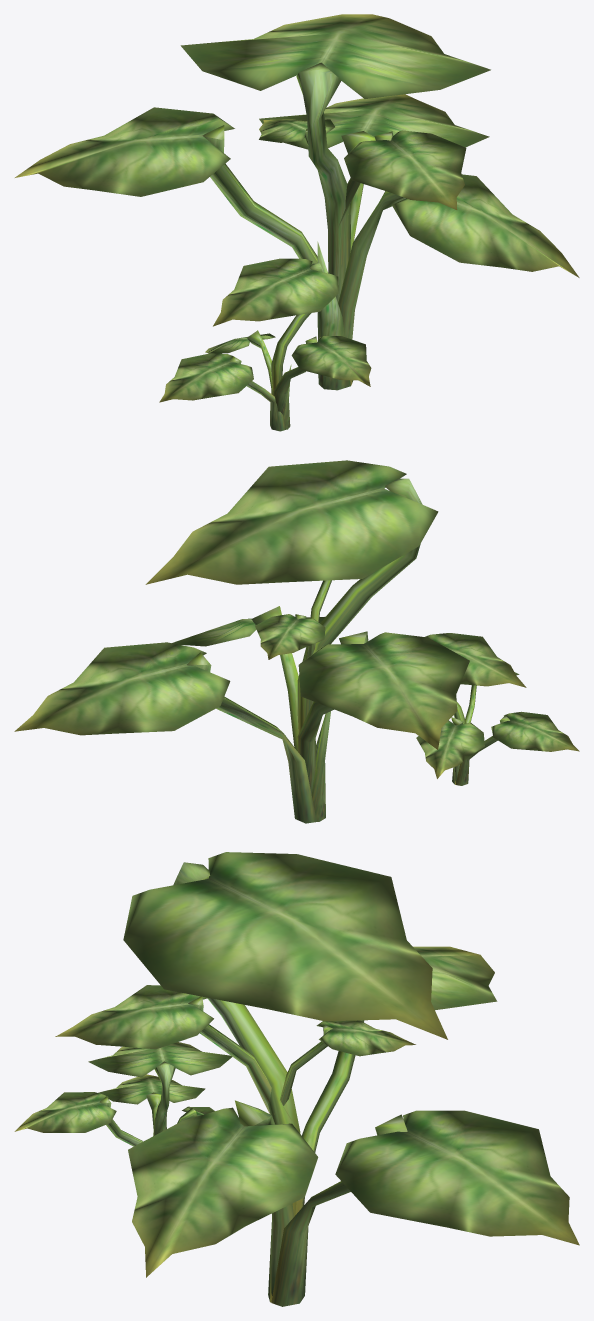
The model's file is n_SWWduckweed.glb.
3 views of the same model, one above another, from view 1: azimuth 30°, elevation 25°; view 2: azimuth 150°, elevation 25°; view 3: azimuth 270°, elevation 25° (orthographic). The views are drawn at different scales.
Visible parts, largest first — view 1: n_SWWduckweed; view 2: n_SWWduckweed; view 3: n_SWWduckweed.
Boxes of the visible parts, bbox=[...] form: n_SWWduckweed: bbox=[15, 14, 579, 431]; n_SWWduckweed: bbox=[14, 460, 579, 823]; n_SWWduckweed: bbox=[14, 852, 579, 1306].
Size of the model in its own units: 2.58 by 2.02 by 2.59.
1 material, 1 textured.
